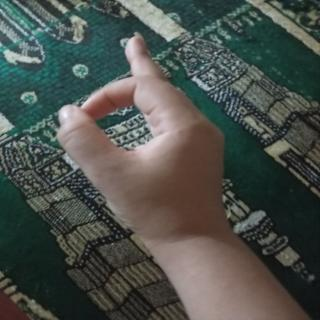Space: (52, 25, 234, 256)
